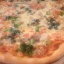pesto: (17, 41, 36, 55), (5, 26, 21, 41), (46, 16, 59, 30)
pizza: (1, 1, 61, 62)
